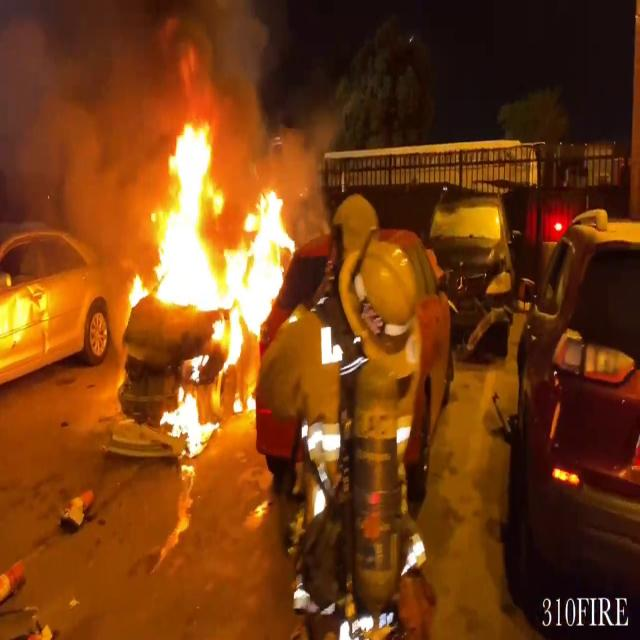Fire: (125, 114, 307, 340), (157, 382, 217, 454)
Smoke: (0, 0, 289, 199)
